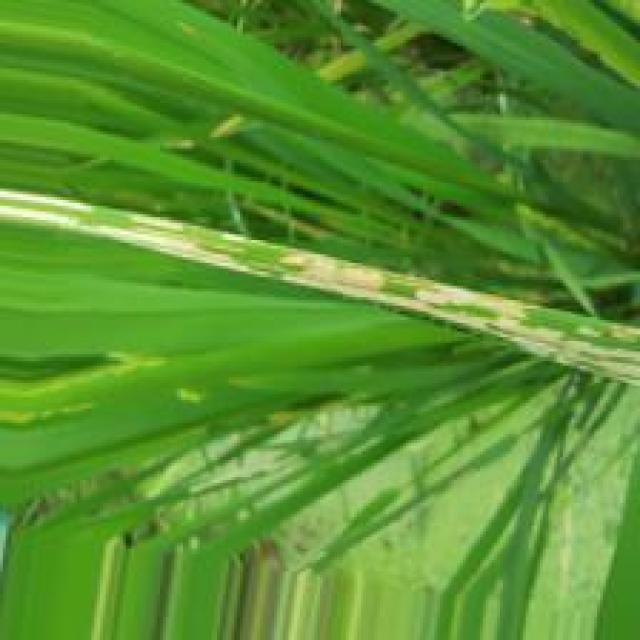Rice_Hispa: (409, 275, 640, 387), (0, 192, 251, 272), (282, 248, 384, 298), (397, 295, 493, 330)
